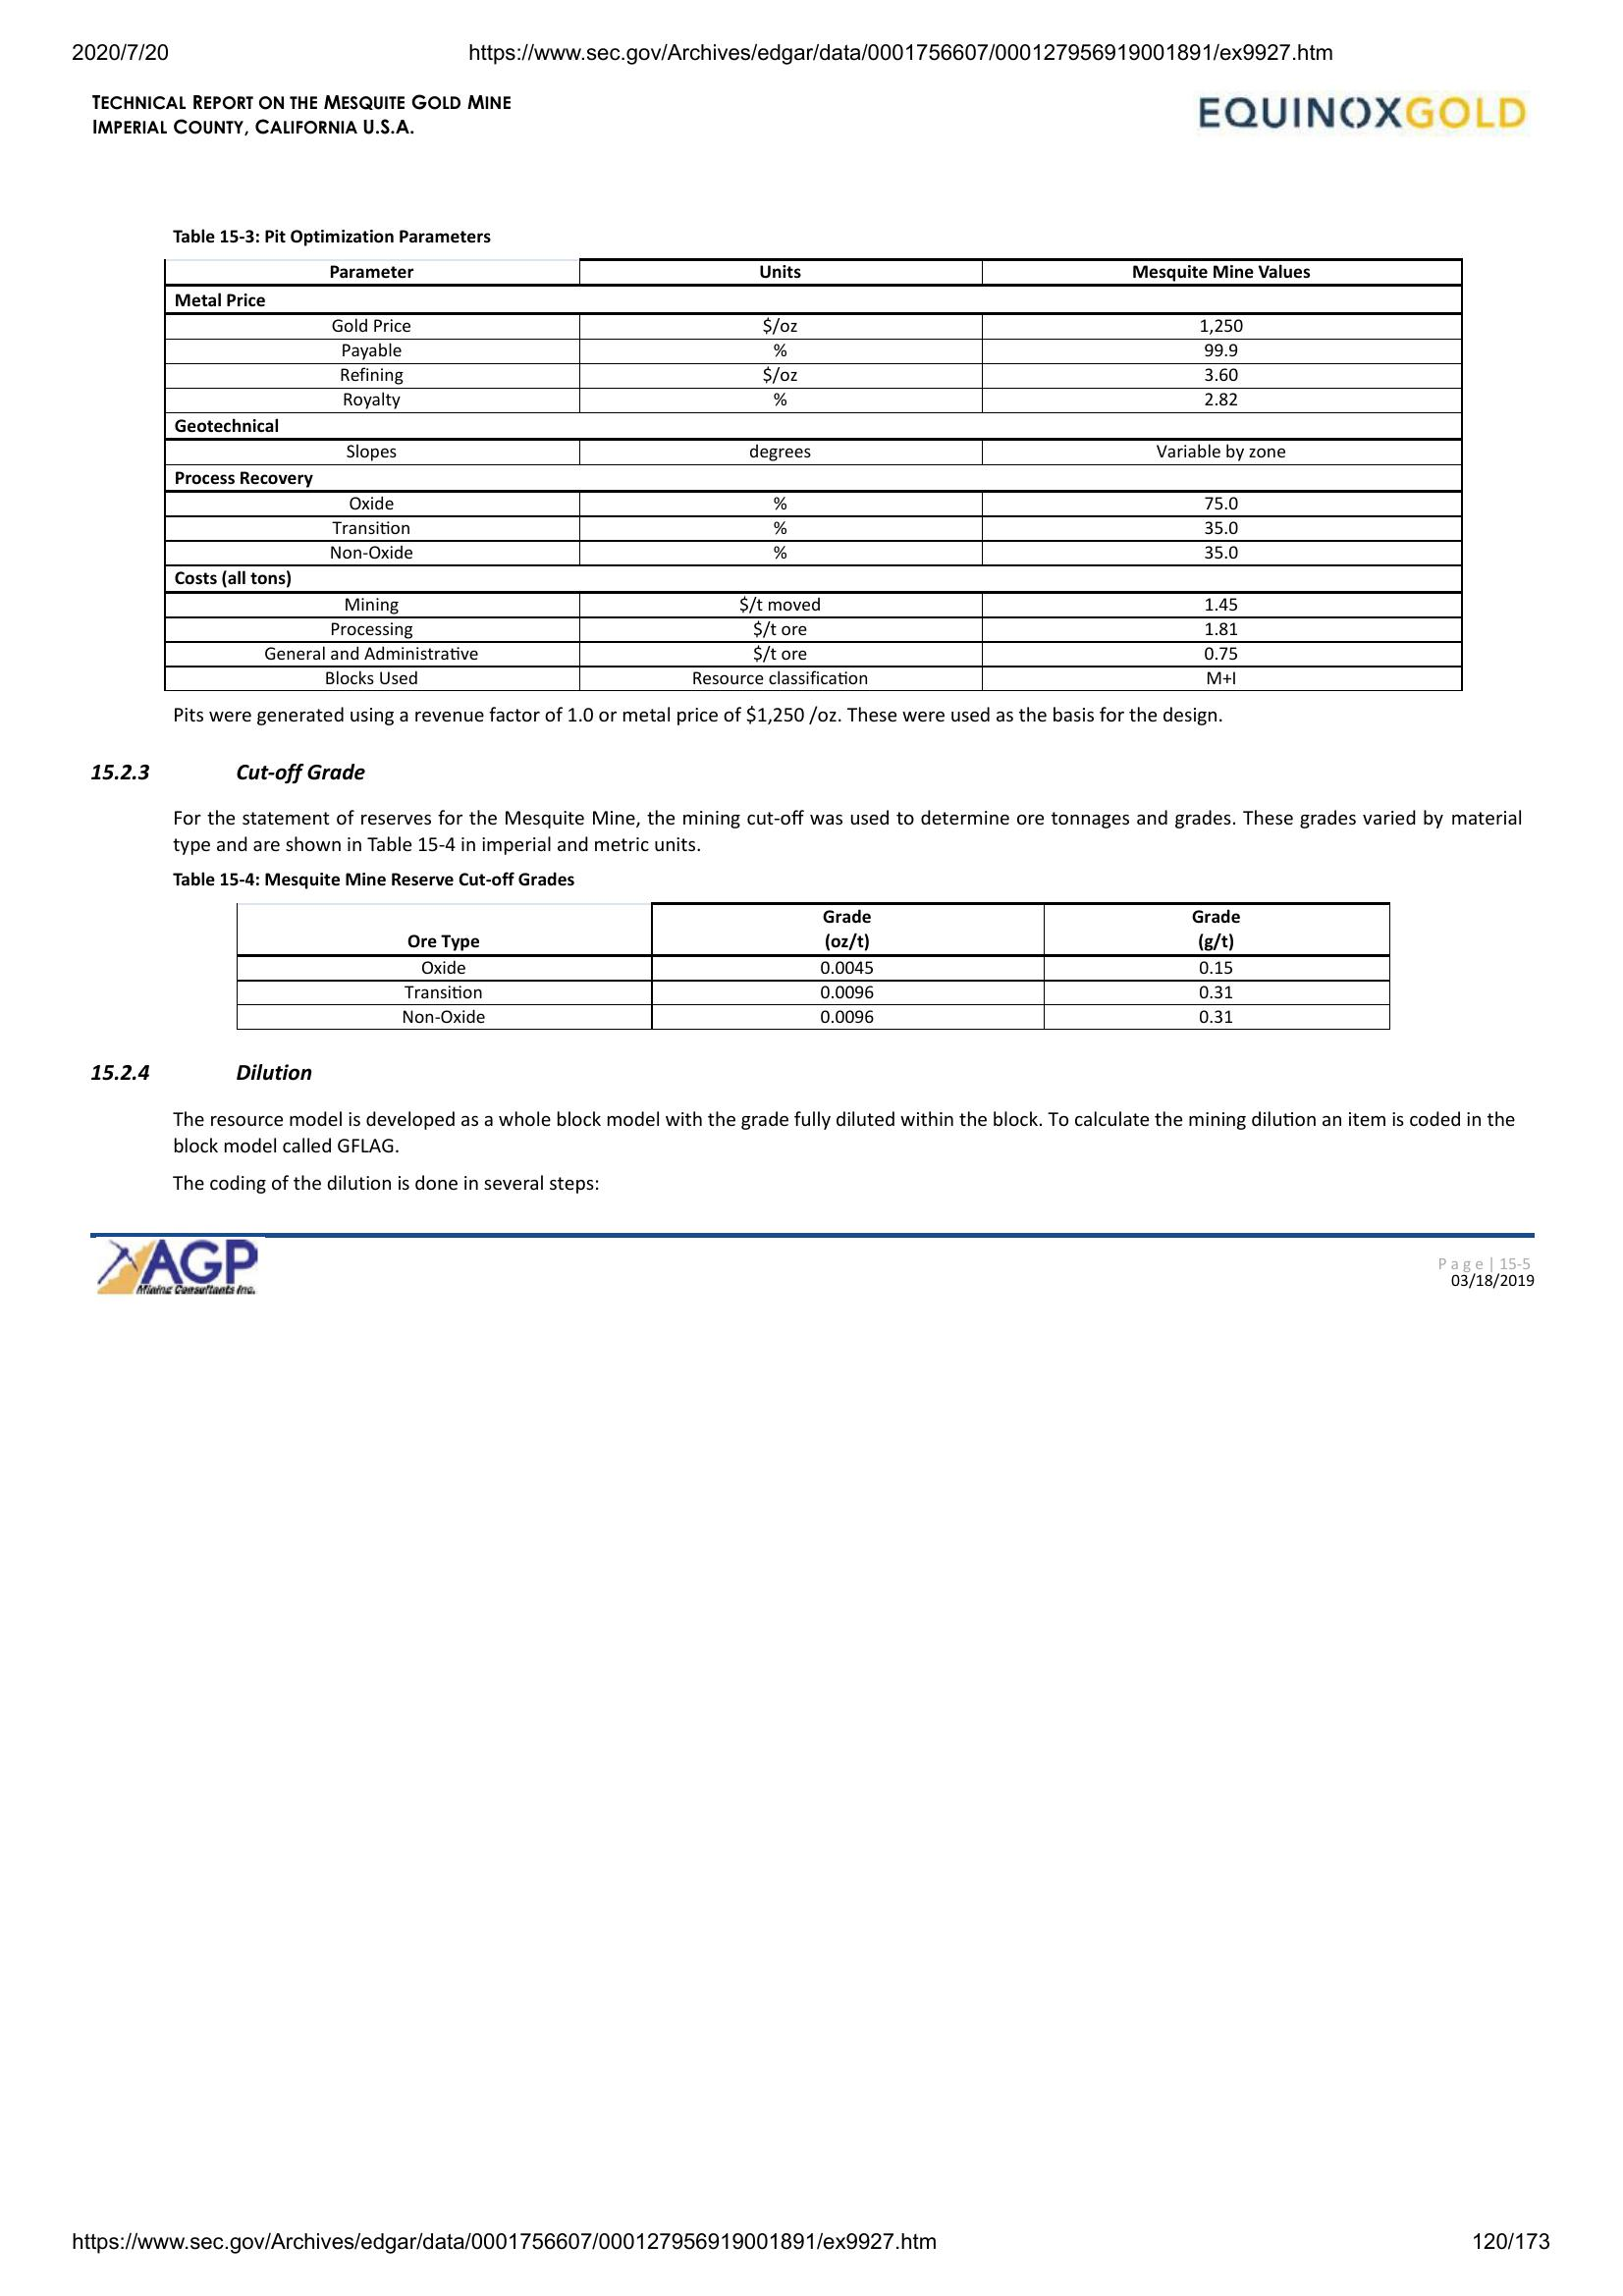table: (158, 251, 1468, 699), (230, 899, 1395, 1037)
